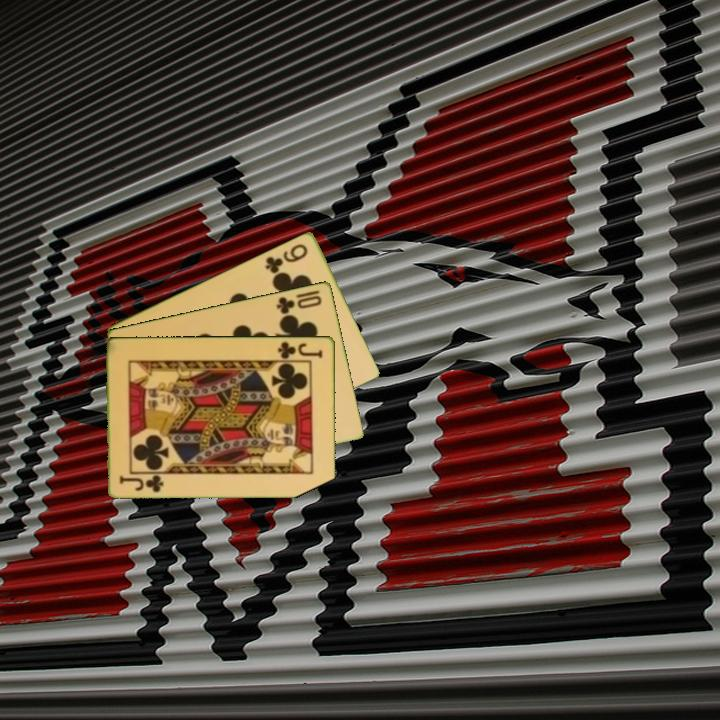10c: (273, 291, 325, 317)
9c: (261, 240, 311, 276)
Jc: (116, 471, 167, 495), (275, 338, 325, 361)
